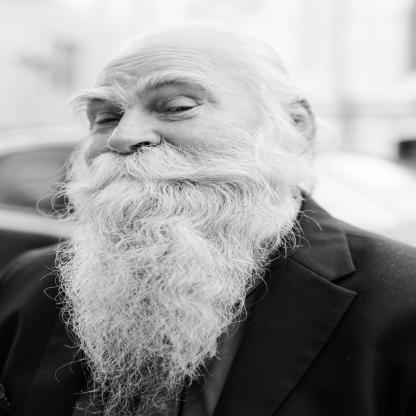Eye: (155, 93, 210, 121), (92, 112, 119, 132)
Mouth: (98, 174, 185, 190)
Nose: (107, 106, 163, 154)
